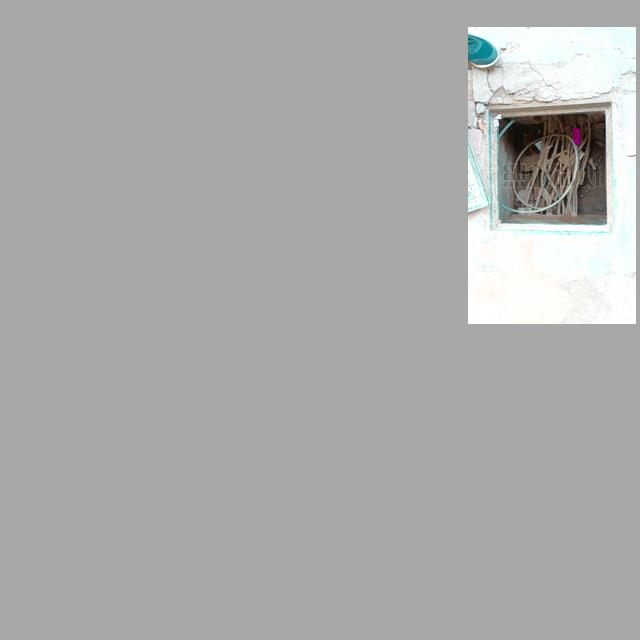lose: (486, 98, 619, 238)
